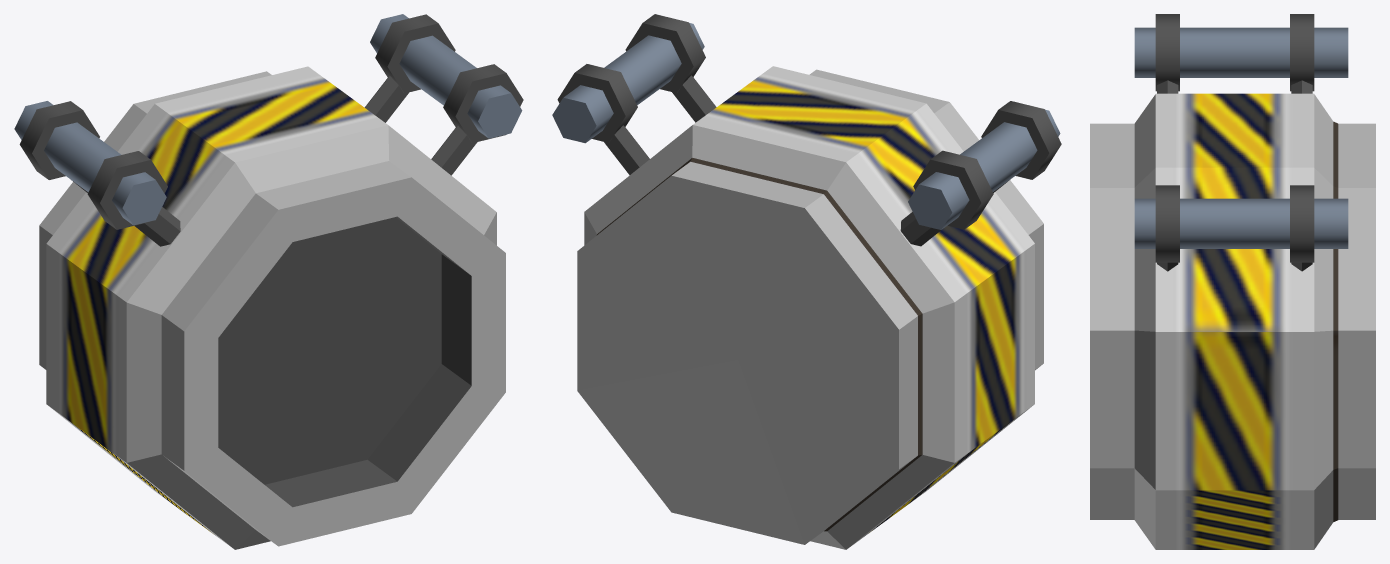
Rendered from PipeHead.fbx.
3 renders of one model, left to right at view 1: azimuth 30°, elevation 25°; view 2: azimuth 150°, elevation 25°; view 3: azimuth 270°, elevation 25°, orthographic.
Parts seen in each view (by area): view 1: group9; view 2: group9; view 3: group9.
Part boxes in pixels (x1,y1,x2,y2): group9: (14, 14, 523, 549); group9: (552, 14, 1061, 549); group9: (1090, 14, 1375, 549).
Bounding box in the file's own units: 1.55 × 1.43 × 0.9162.
